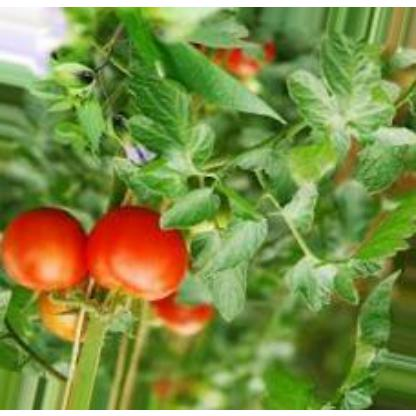tomato: (87, 202, 191, 309), (0, 189, 93, 303)
